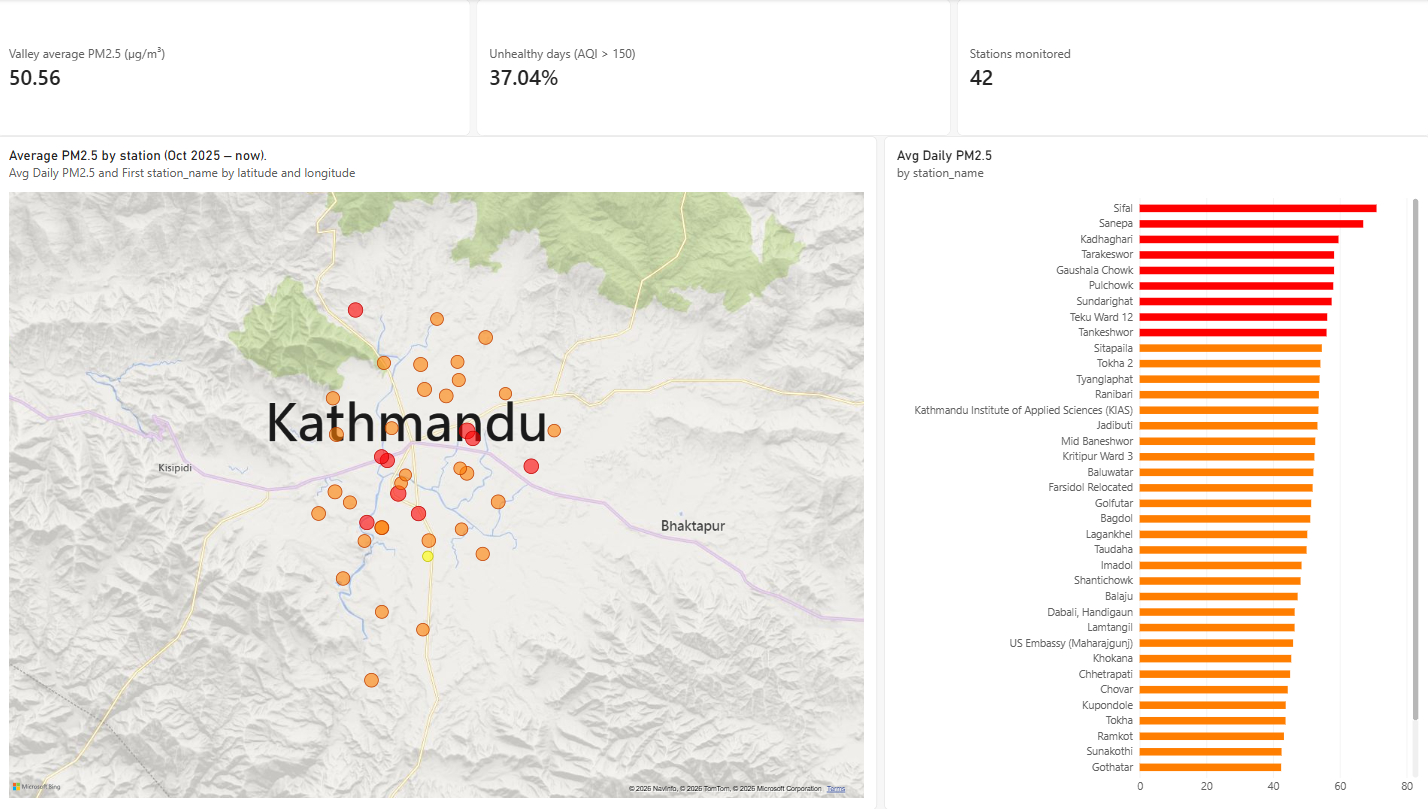

Layout of this report page (visuals, bound fields, positions):
{"tool":"powerbi","page":{"name":"Which area is worst? ","canvas":[1920,1080],"ordinal":0},"visuals":[{"type":"map","title":"Average PM2.5 by station (Oct 2025 – now).","fields":{"Size":["Calendar.Avg Daily PM2.5"],"X":["stations.longitude"],"Y":["stations.latitude"]},"box":[10.2,182.4,1171.6,897.3],"z":0},{"type":"clusteredBarChart","fields":{"Category":["stations.station_name"],"Y":["Calendar.Avg Daily PM2.5"]},"box":[1192,182.4,728,897.3],"z":1000},{"type":"cardVisual","fields":{"Data":["Calendar.Avg Daily PM2.5","daily_station_summary.% Unhealthy Days","CountNonNull(stations.station_id)"]},"box":[10.2,0,1909.8,182.4],"z":2000}]}

Visuals, with their boxes in screenshot pixels (x1, y1, x2, y2), scaled from the page's 1920x1080 canvas onto the 1428x809 screenshot:
"Average PM2.5 by station (Oct 2025 – now)." map: [8, 137, 879, 808]
clusteredBarChart - stations.station_name x Calendar.Avg Daily PM2.5: [887, 137, 1427, 808]
cardVisual - Calendar.Avg Daily PM2.5 x daily_station_summary.% Unhealthy Days: [8, 0, 1427, 137]
